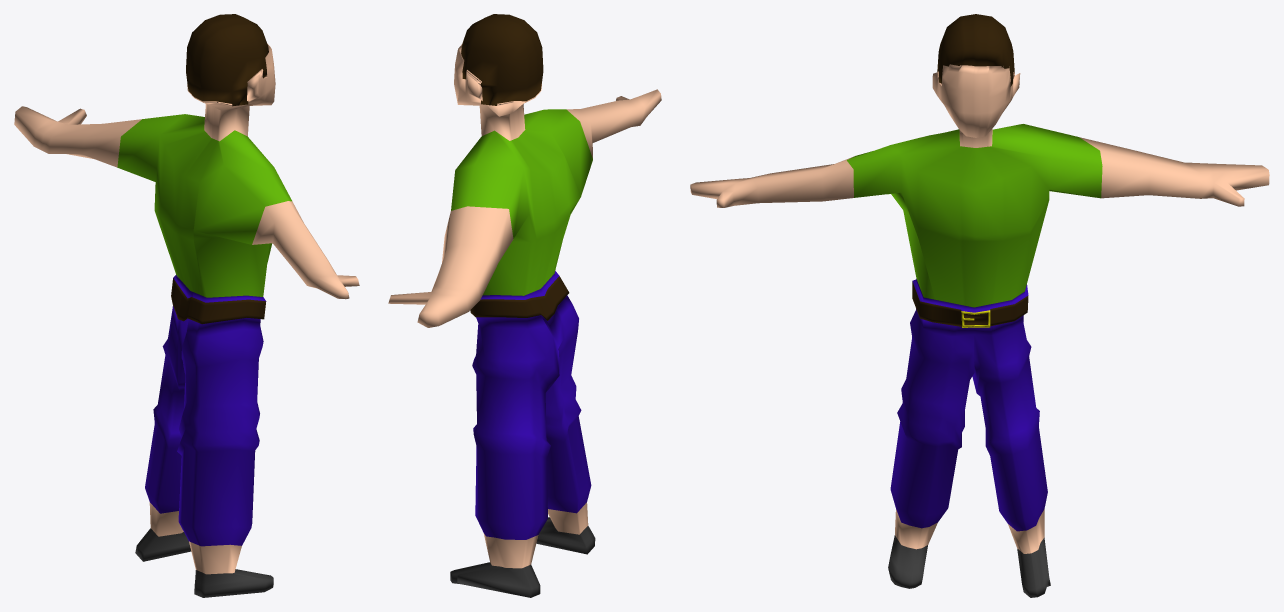
Rendered from low poly character.glb.
The picture shows the model from 3 angles, left to right: view 1: azimuth 30°, elevation 25°; view 2: azimuth 150°, elevation 25°; view 3: azimuth 270°, elevation 25°; orthographic projection. The views are drawn at different scales.
Visible parts, largest first — view 1: Cube; view 2: Cube; view 3: Cube.
Boxes of the visible parts, x1,y1,x2,y2 form: Cube: (14, 14, 359, 597); Cube: (388, 14, 661, 597); Cube: (690, 14, 1269, 597).
Bounding box in the file's own units: 2.37 × 10.17 × 9.42.
